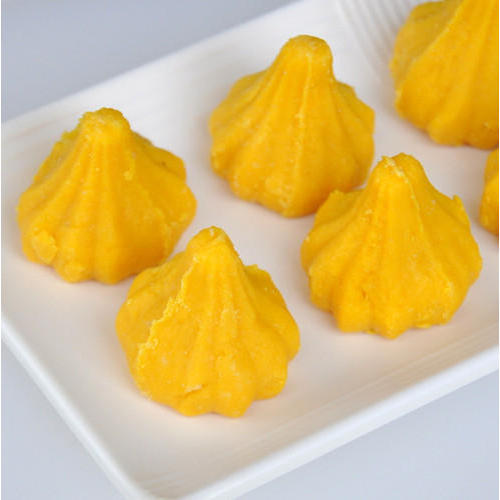modak: (306, 142, 493, 342), (210, 24, 387, 216), (126, 228, 310, 411), (21, 101, 208, 268)
